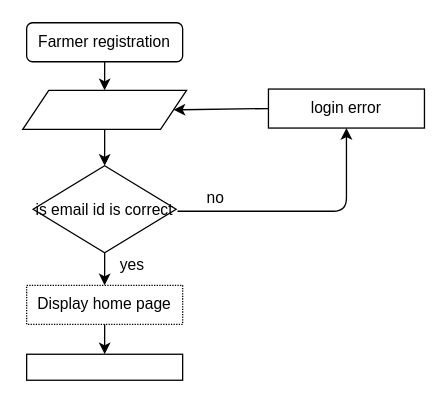
Some shapes in this 447 by 403 pixel diagram are drawn without their labels. Here are the shapes that lost their labels. From the top down, the box of each, then its label:
(21, 89, 187, 129): Enter email id & password
(25, 353, 183, 380): product upload
